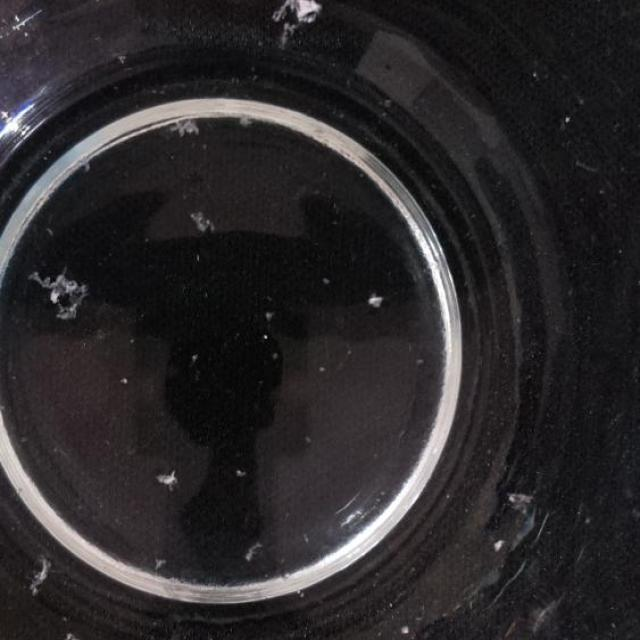fiber: (28, 262, 86, 340), (269, 0, 323, 43), (25, 547, 51, 604), (184, 199, 217, 240), (360, 284, 389, 314), (164, 118, 207, 138), (147, 465, 185, 486), (59, 624, 97, 639)
